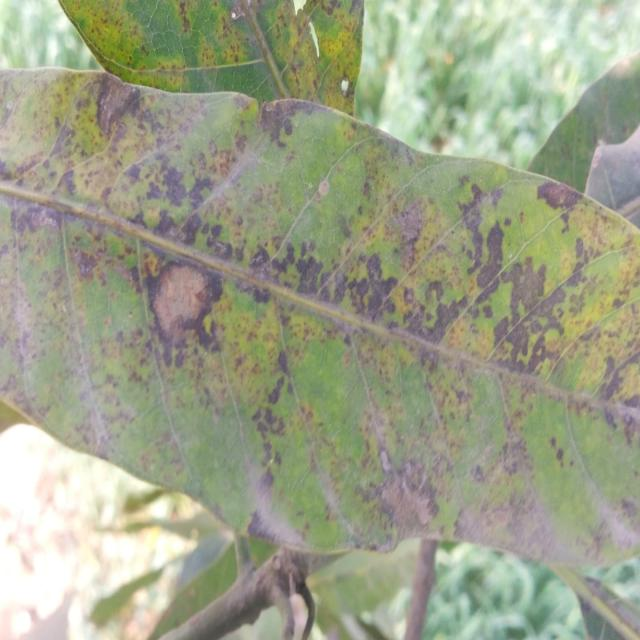Anthracnose: (334, 248, 463, 337), (143, 158, 241, 228)
Bacterial Cancer: (367, 432, 481, 534), (141, 266, 222, 364), (90, 76, 137, 128)
